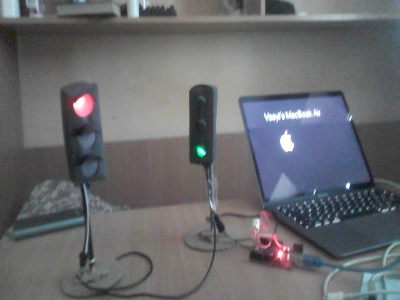trafficlight_green: (188, 84, 213, 163)
trafficlight_red: (65, 87, 103, 180)
